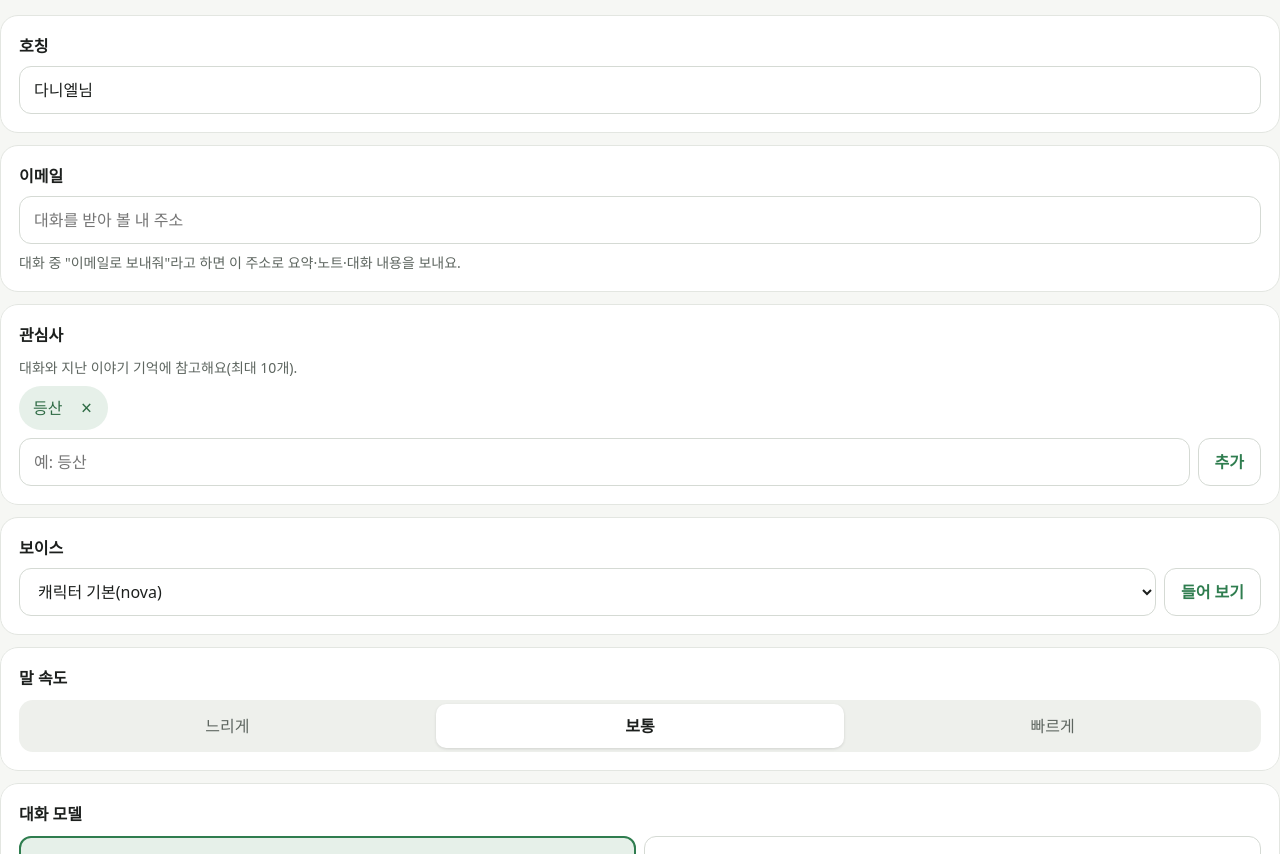
Test: SettingsScreen › 불러온 값을 보이고 바뀐 필드만 저장한다
Expected: the field labelled "호칭" holds "다니엘님", [19,66,1261,114]
Select "coral" in the dropdown labelled "보이스" at (588, 592), box [19,568,1156,616]
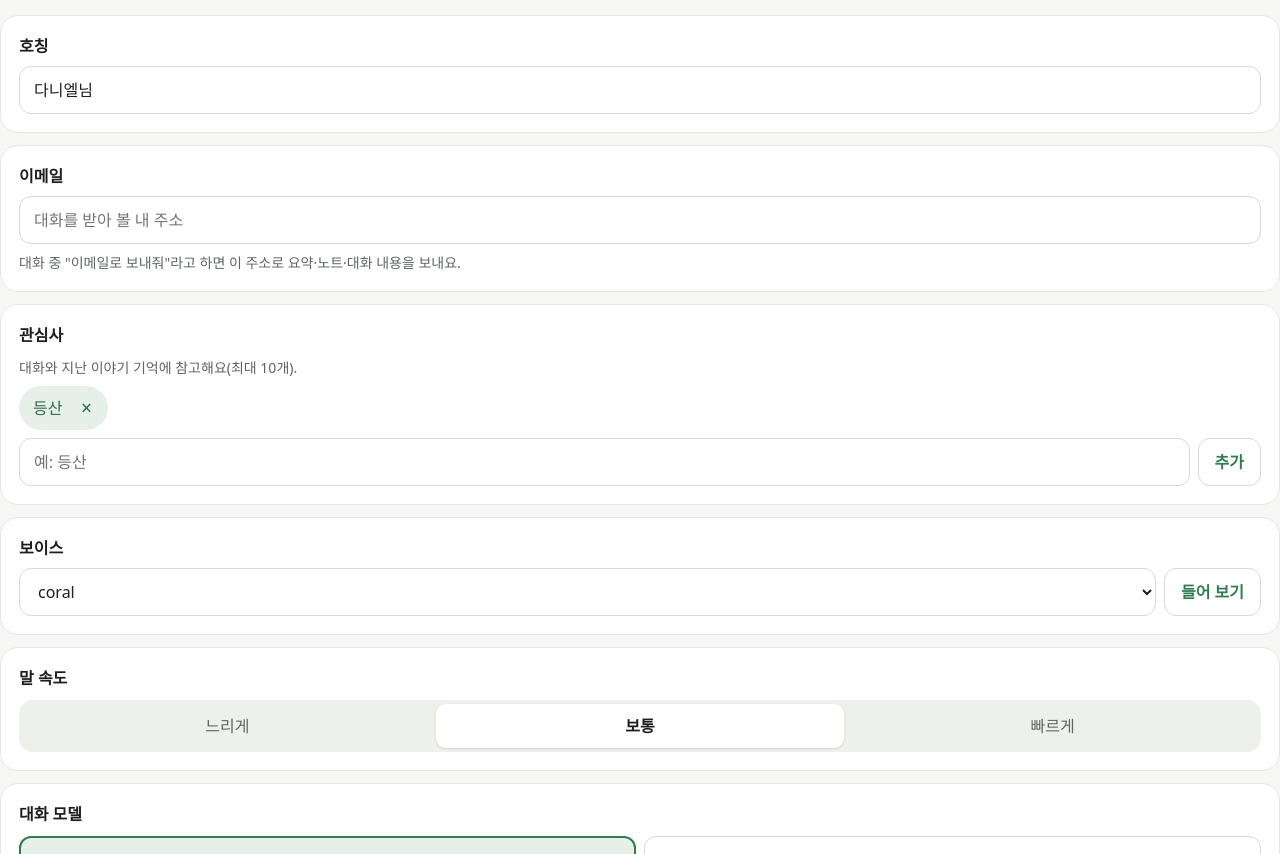
Click the radio button labelled "느리게" at (227, 726), box [205,715,249,737]
(page scrolled)
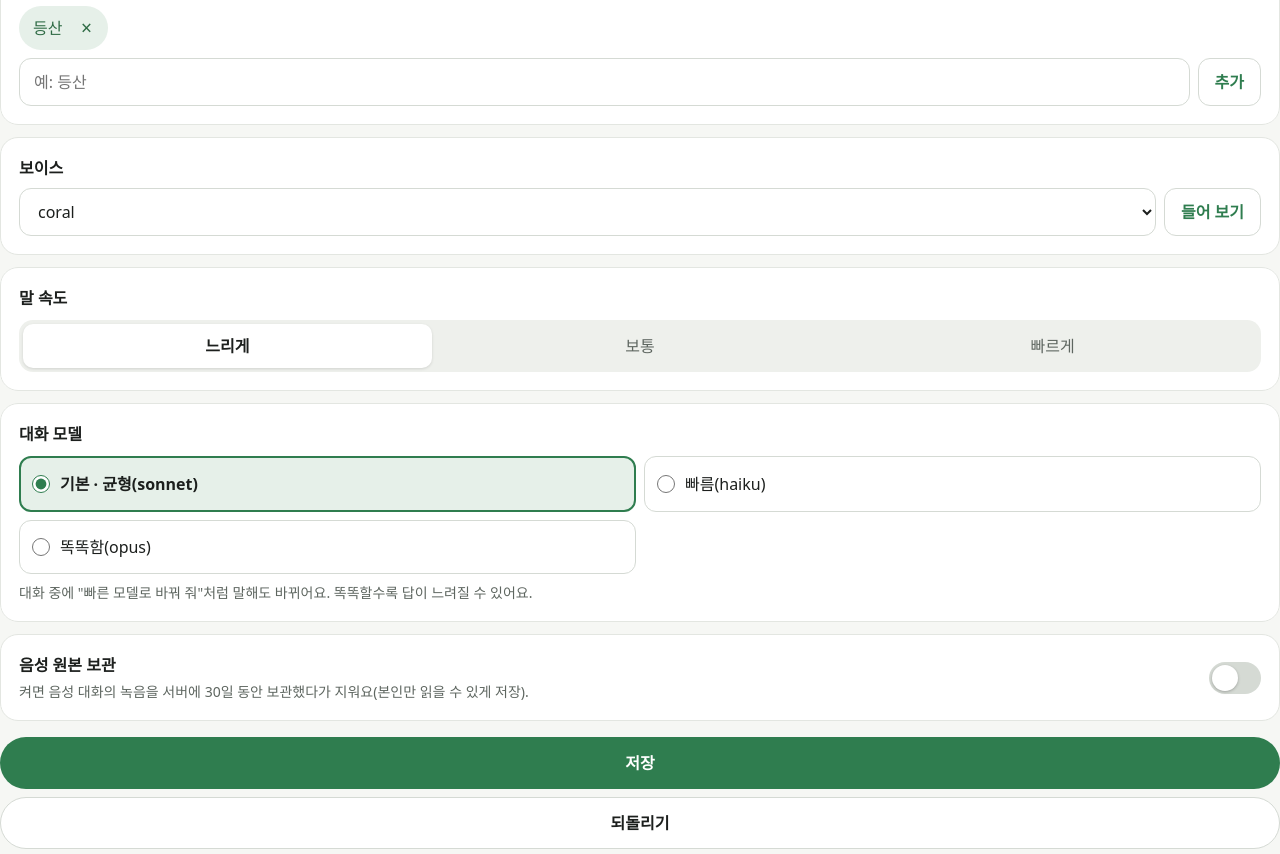
Click the checkbox labelled "음성 원본 보관 켜면 음성 대화의 녹음을 서버에 30일 동안 보관했다가 지워요(본인만 읽을 수 있게 저장)." at (1235, 678), box [1209,662,1261,694]
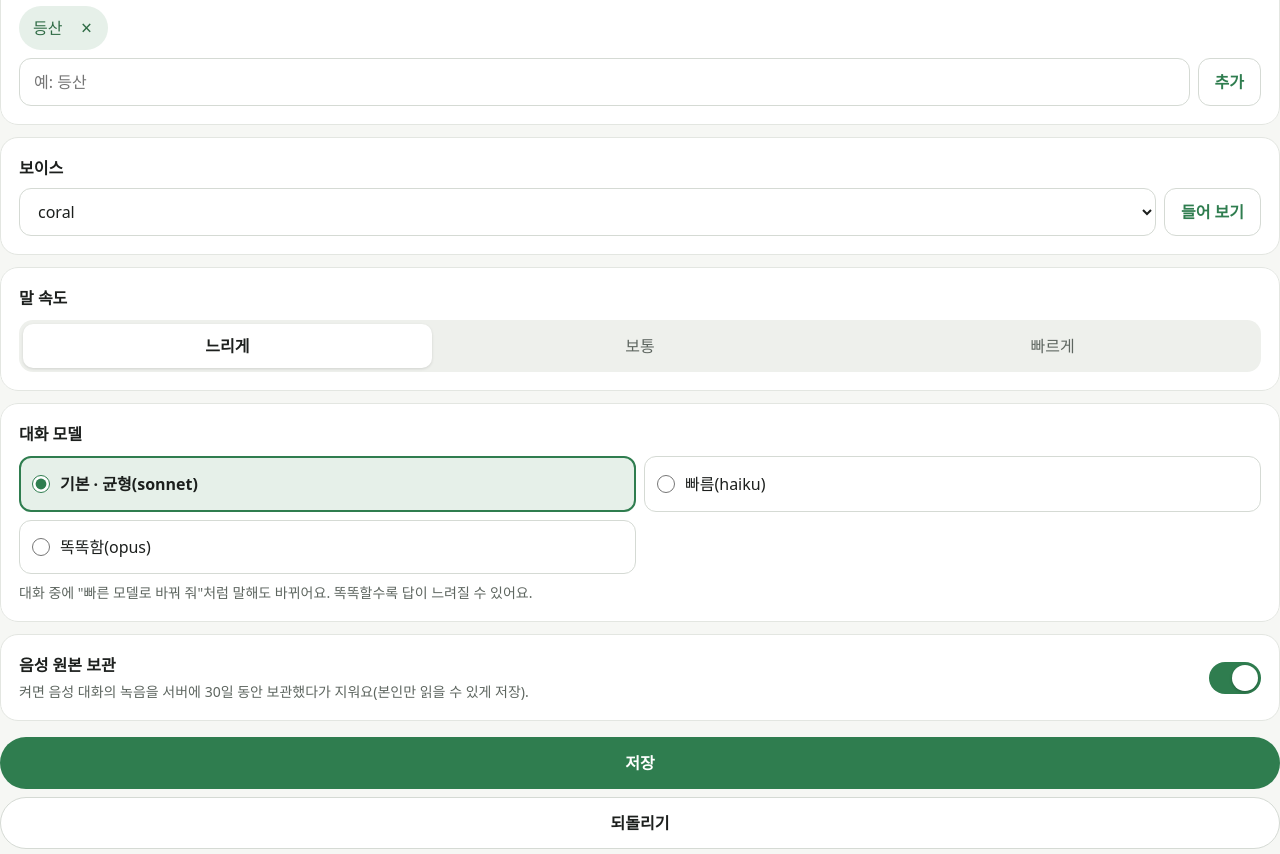
Expected: the radio button labelled "기본 · 균형(sonnet)" is checked, [32,475,50,493]
Click the radio button labelled "똑똑함(opus)" at (41, 547), box [32,538,50,556]
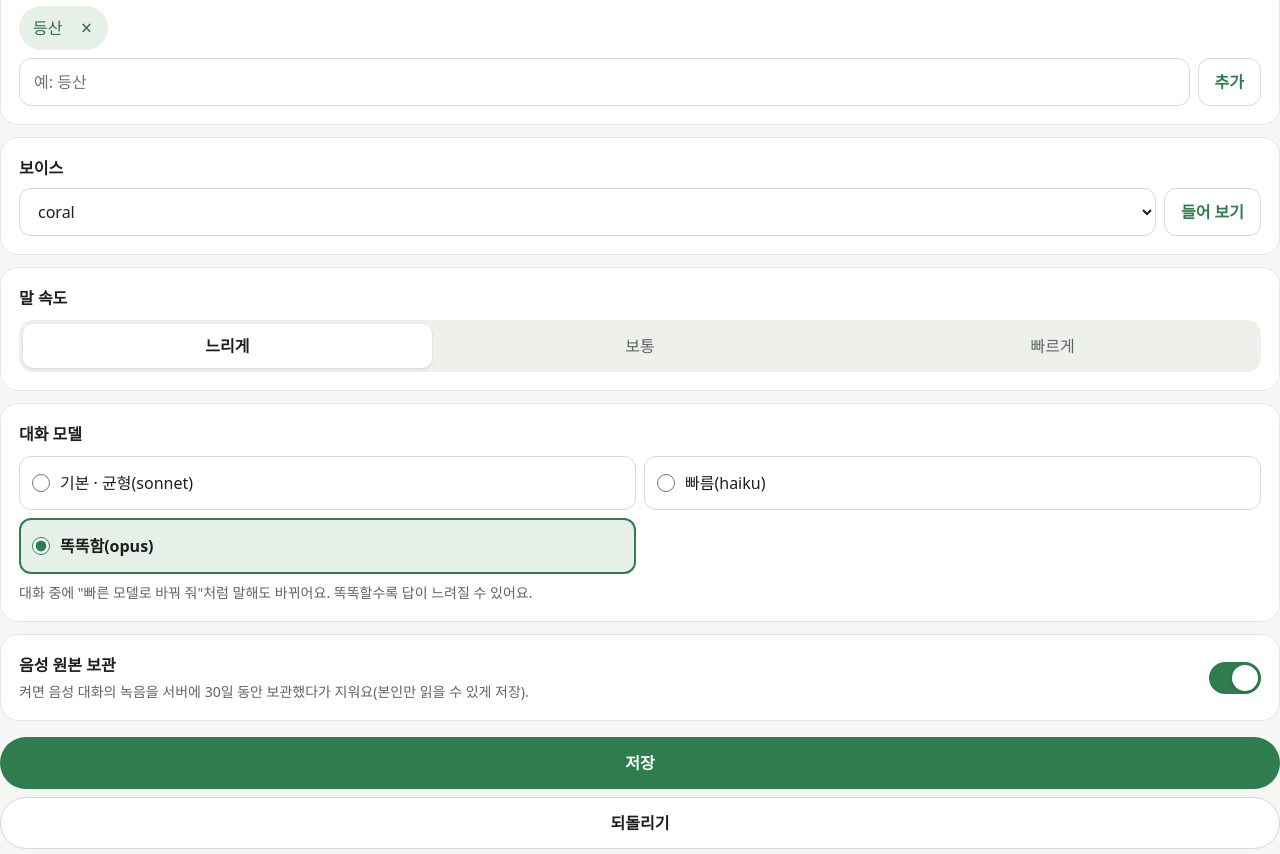
Click the button "저장" at (640, 763), box [0,737,1279,789]
(page scrolled)
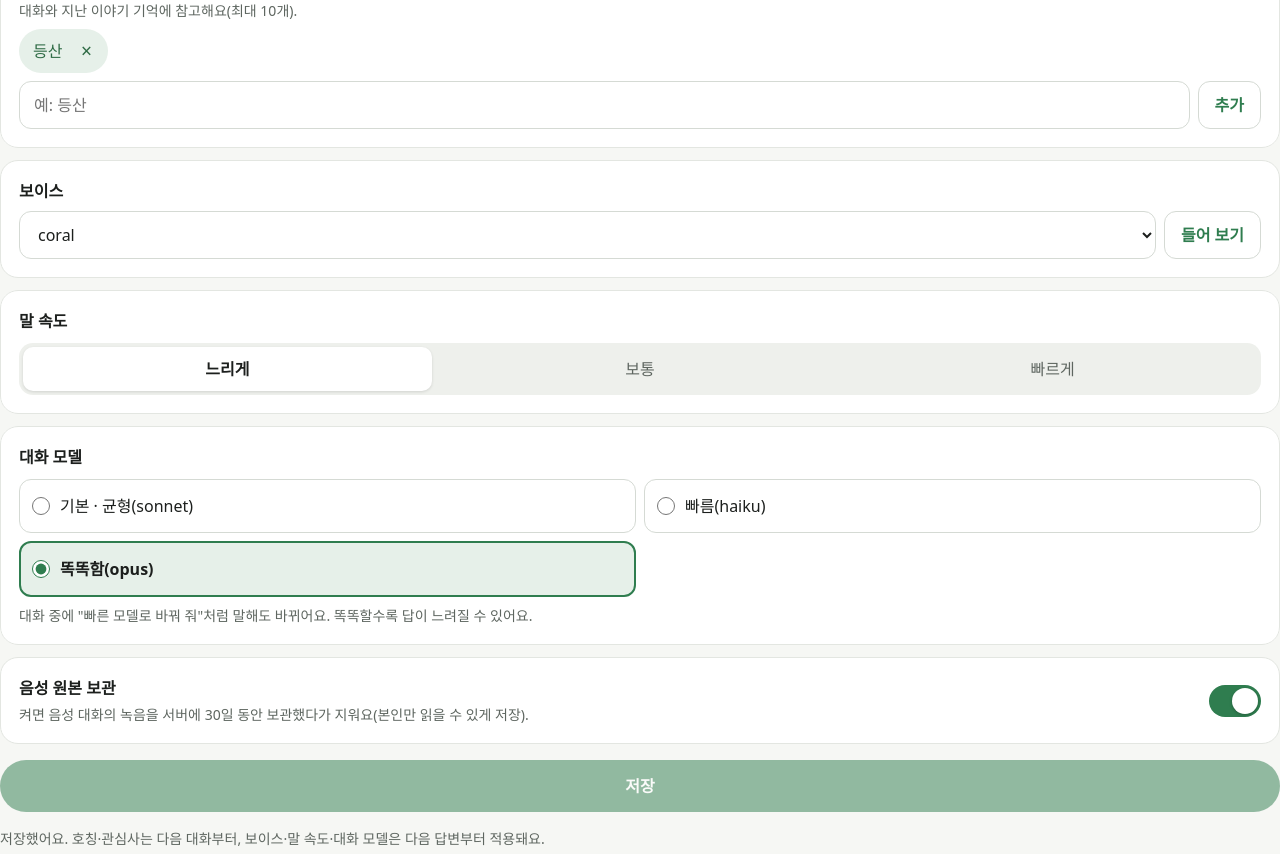
Expected: the message shows "저장했어요", [0,829,545,848]
Expected: the button "저장" is disabled, [0,760,1279,812]
